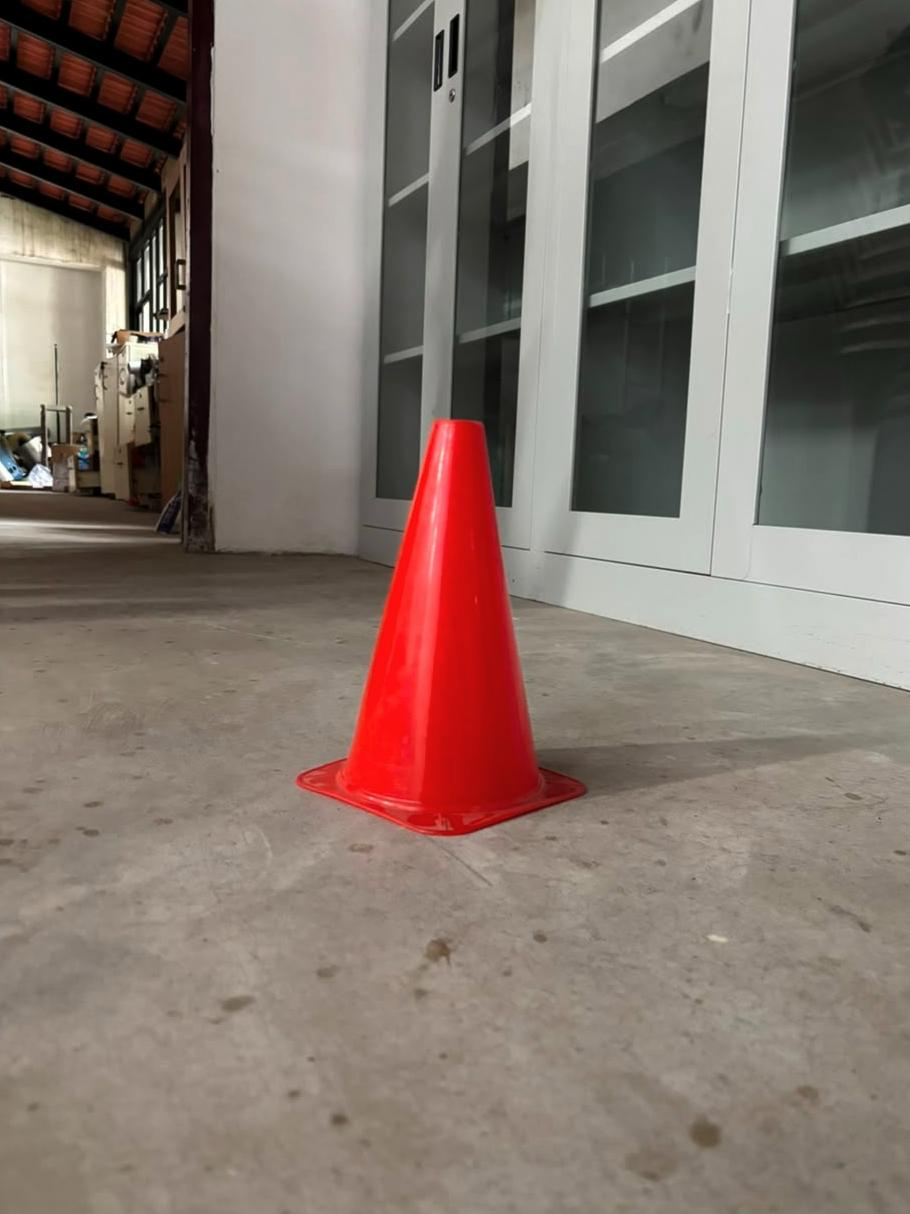0 cone: (296, 420, 584, 835)
